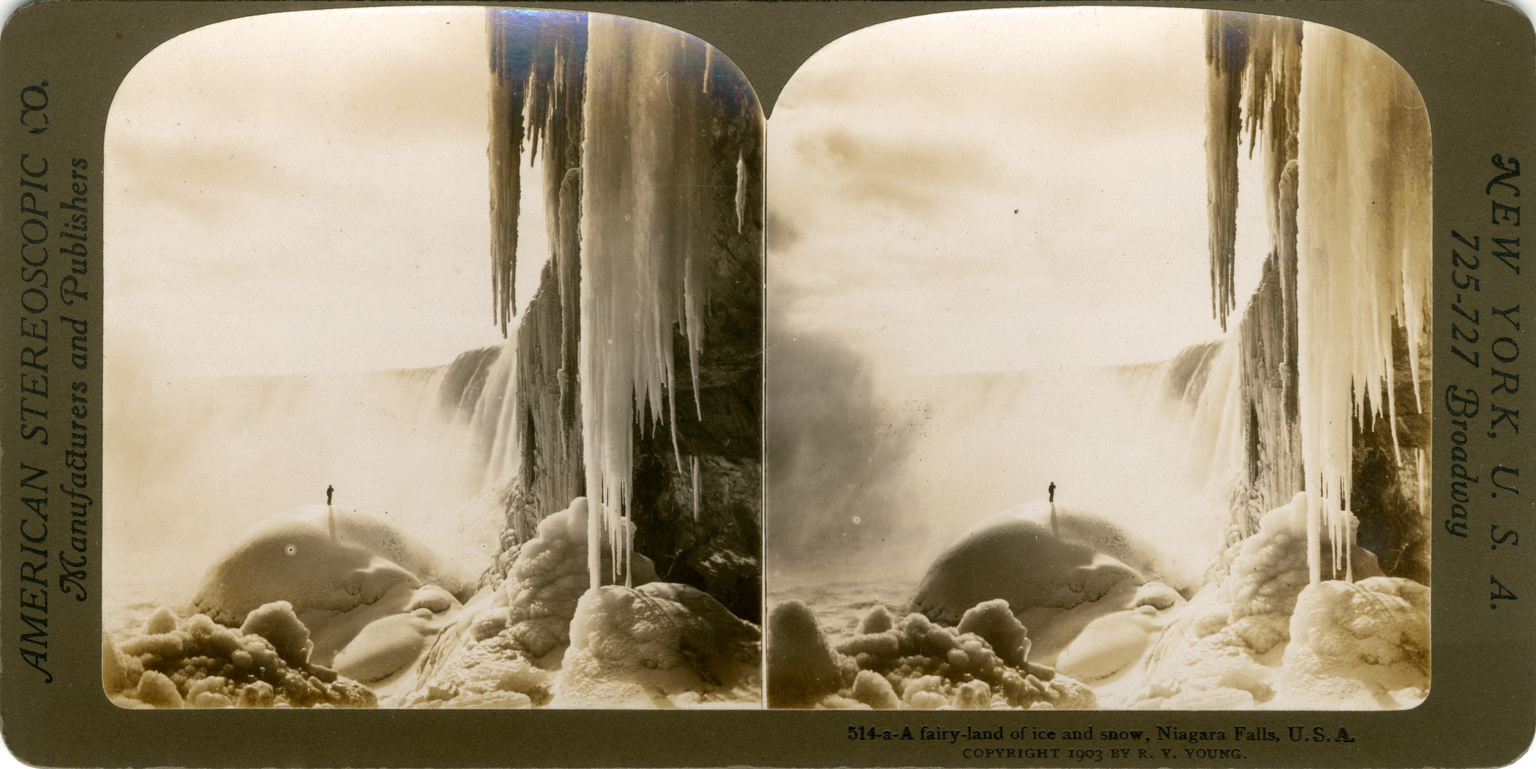half_image: (769, 6, 1434, 711), (103, 5, 764, 710)
